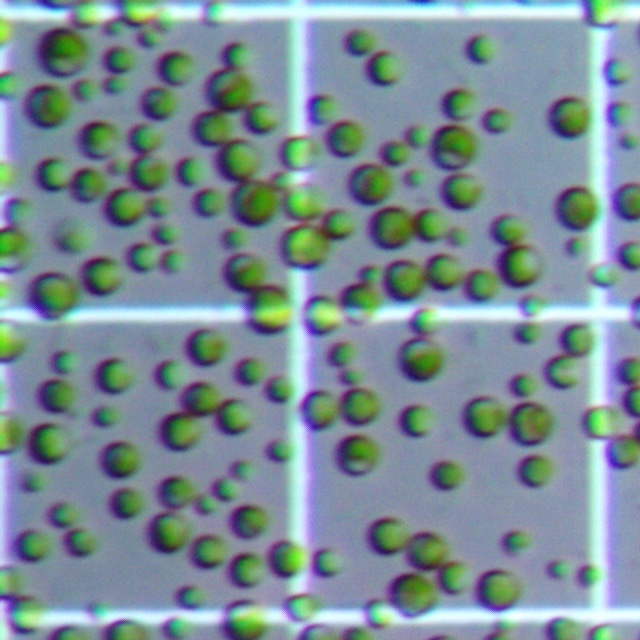cell: (33, 25, 95, 82), (22, 269, 83, 324), (19, 81, 77, 134), (384, 570, 441, 622), (229, 178, 284, 231), (344, 160, 400, 211), (428, 123, 481, 176), (330, 431, 385, 482), (396, 336, 450, 387), (507, 399, 558, 451), (364, 203, 416, 254), (280, 223, 334, 272), (473, 567, 526, 616), (552, 182, 600, 236), (544, 93, 594, 144), (77, 253, 128, 303), (207, 66, 258, 115), (46, 213, 99, 260), (25, 421, 75, 470), (96, 437, 147, 484), (402, 528, 453, 575), (498, 242, 545, 291), (101, 185, 150, 232), (464, 394, 511, 443), (90, 354, 140, 400), (74, 118, 124, 164), (248, 286, 294, 336), (437, 170, 488, 215), (182, 326, 233, 371), (365, 514, 414, 560), (152, 472, 204, 515), (322, 117, 370, 163), (225, 501, 274, 545), (301, 294, 347, 340), (267, 537, 312, 584), (339, 385, 384, 431), (297, 385, 338, 435), (225, 549, 271, 593), (185, 531, 232, 574), (177, 378, 225, 420), (221, 139, 265, 184), (513, 451, 559, 494), (423, 251, 466, 297), (277, 133, 324, 175), (282, 183, 329, 225), (35, 376, 82, 418), (67, 164, 111, 208), (213, 397, 258, 440), (105, 483, 151, 525), (411, 205, 457, 247), (137, 84, 183, 126), (224, 601, 273, 640), (130, 152, 174, 195), (424, 456, 470, 497), (396, 401, 440, 443), (12, 526, 57, 567), (581, 404, 627, 444), (339, 283, 379, 329), (152, 512, 194, 555), (156, 48, 199, 90), (436, 558, 478, 601), (384, 258, 424, 303), (164, 412, 206, 454), (188, 183, 232, 223), (172, 153, 216, 192), (34, 155, 75, 196), (366, 48, 406, 90), (242, 99, 283, 139), (542, 352, 582, 392), (439, 86, 480, 125), (463, 267, 504, 306), (281, 590, 325, 626), (223, 252, 267, 288), (319, 206, 360, 244), (339, 25, 381, 62), (9, 595, 45, 637), (71, 0, 123, 29), (310, 545, 348, 584), (602, 435, 640, 474), (128, 121, 169, 157), (0, 319, 30, 368), (493, 214, 533, 250), (306, 91, 343, 129), (560, 323, 598, 360), (155, 357, 192, 395), (407, 304, 447, 339), (170, 582, 211, 616), (126, 240, 163, 277), (117, 0, 165, 28), (66, 526, 103, 562), (498, 527, 537, 561), (576, 2, 623, 30), (86, 401, 127, 433), (478, 105, 516, 139), (0, 412, 28, 458), (466, 32, 501, 68), (46, 347, 85, 379), (613, 181, 640, 224), (602, 56, 636, 90), (223, 40, 257, 73), (45, 501, 83, 530), (0, 228, 29, 265), (585, 621, 640, 640), (547, 615, 587, 640), (404, 121, 435, 153), (107, 619, 153, 640), (0, 157, 23, 199), (362, 597, 393, 628), (591, 261, 621, 291), (517, 293, 550, 320), (404, 161, 429, 196), (264, 374, 292, 404), (602, 102, 632, 130), (210, 472, 236, 504), (199, 2, 231, 28), (263, 438, 292, 466), (512, 322, 541, 349), (234, 355, 261, 383), (339, 624, 386, 640), (47, 620, 86, 639), (70, 77, 96, 105), (0, 566, 22, 599), (0, 71, 22, 103), (227, 459, 256, 483), (328, 340, 352, 369), (619, 240, 640, 272), (543, 558, 571, 582), (617, 352, 639, 382), (161, 615, 191, 637), (103, 46, 136, 66), (146, 195, 171, 221), (382, 142, 408, 167), (576, 564, 603, 588), (16, 472, 45, 494), (139, 24, 162, 51), (220, 231, 251, 251), (84, 596, 109, 620), (357, 263, 381, 288), (511, 373, 536, 396), (99, 76, 129, 95), (159, 251, 184, 273), (0, 16, 16, 50), (617, 132, 639, 156), (626, 293, 639, 330), (623, 388, 639, 417), (563, 238, 585, 259), (157, 11, 177, 33), (342, 366, 365, 385), (153, 224, 177, 241), (104, 20, 127, 37), (198, 494, 215, 516), (491, 617, 519, 630), (0, 280, 11, 308)
